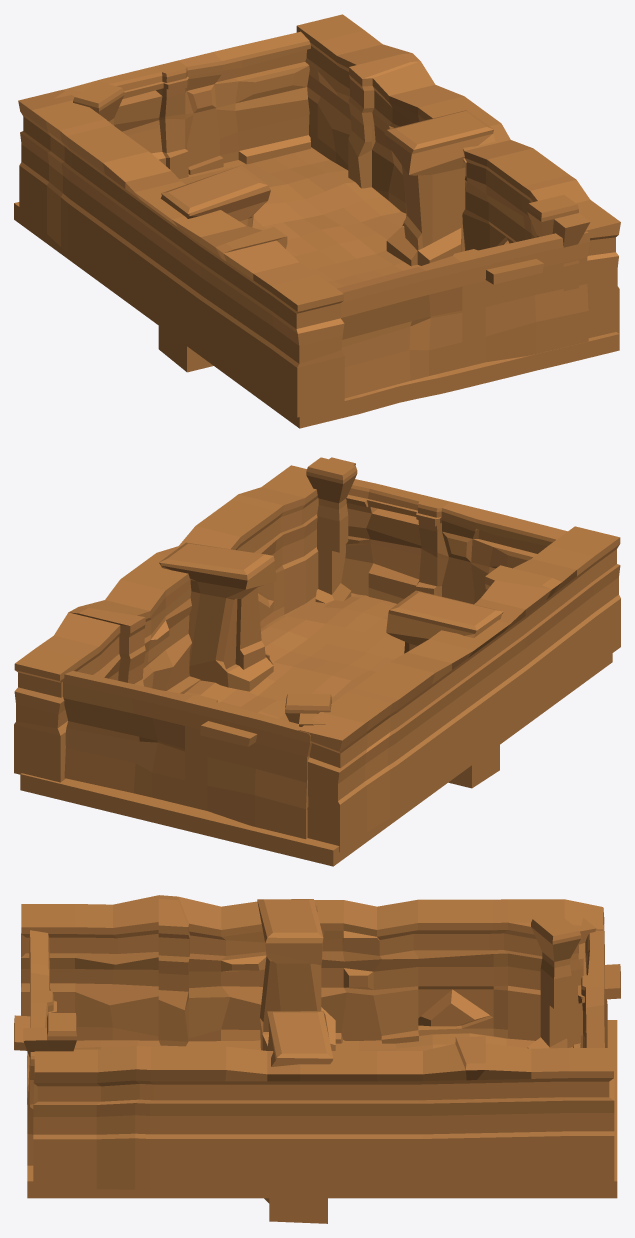
File: EarthArena2.fbx
3 views of the same model, one above another, from view 1: azimuth 30°, elevation 25°; view 2: azimuth 150°, elevation 25°; view 3: azimuth 270°, elevation 25° (orthographic). The views are drawn at different scales.
Parts seen in each view (by area): view 1: Arena; view 2: Arena; view 3: Arena.
Boxes of the visible parts, left/top/right/bottom form: Arena: left=14, top=14, right=620, bottom=428; Arena: left=14, top=457, right=620, bottom=866; Arena: left=14, top=895, right=620, bottom=1223.
Bounding box in the file's own units: 3747 × 1842 × 5496.
